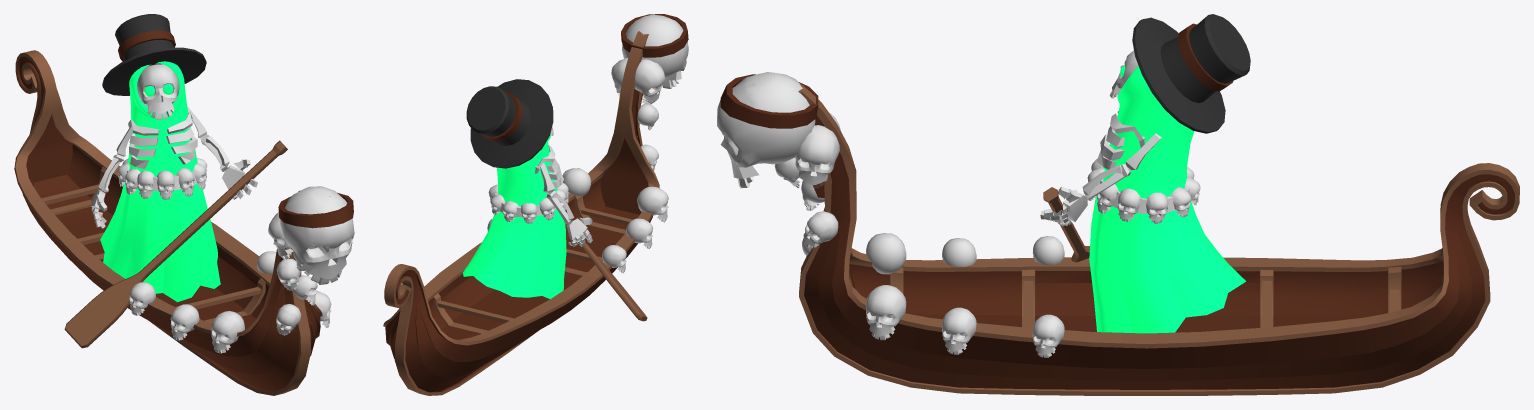
File: Charon_Character.fbx
3 views of the same model, side by side, from view 1: azimuth 30°, elevation 25°; view 2: azimuth 150°, elevation 25°; view 3: azimuth 270°, elevation 25° (orthographic). The views are drawn at different scales.
Parts seen in each view (by area): view 1: boat, charon; view 2: boat, charon; view 3: boat, charon.
Boxes of the visible parts, bbox=[...] form: boat: bbox=[14, 50, 354, 395]; charon: bbox=[64, 14, 287, 348]; boat: bbox=[383, 14, 688, 395]; charon: bbox=[463, 79, 647, 321]; boat: bbox=[717, 72, 1519, 395]; charon: bbox=[1040, 14, 1250, 333].
Size of the model in its own units: 474 by 671 by 1302.
